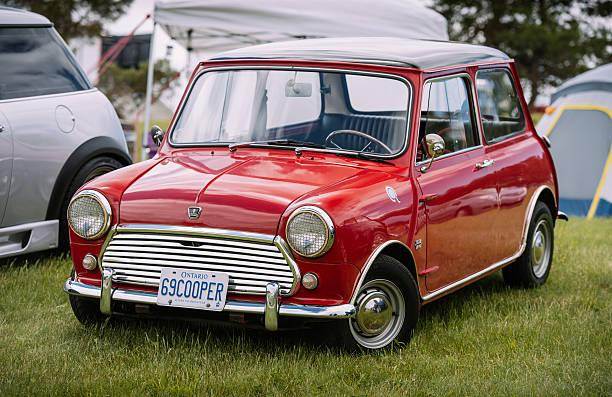licence: (156, 266, 230, 314)
